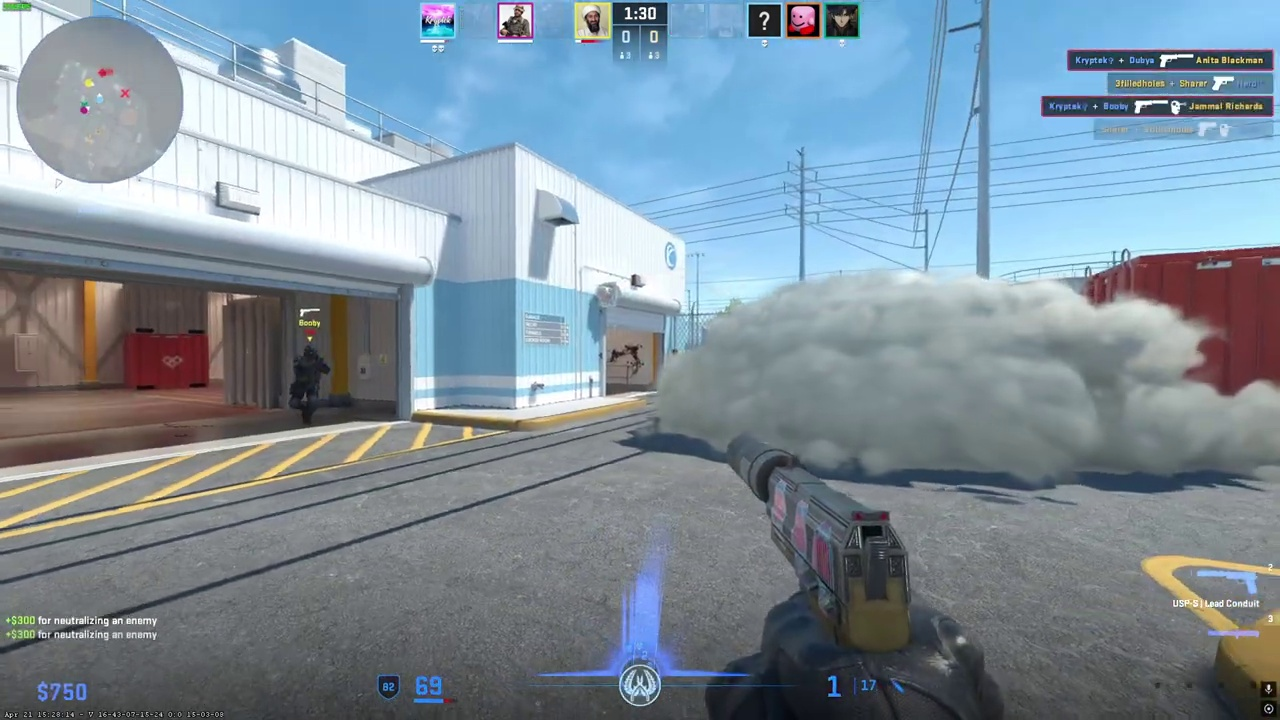CT: (289, 345, 326, 425)
